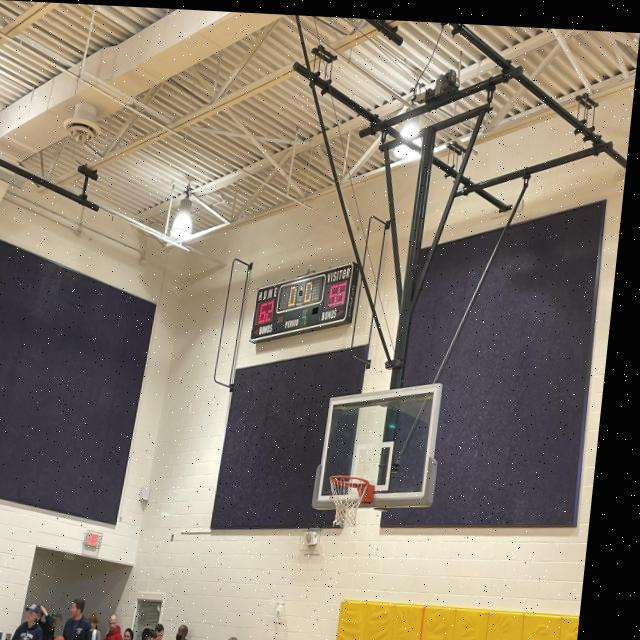hoop: (324, 475, 370, 529)
